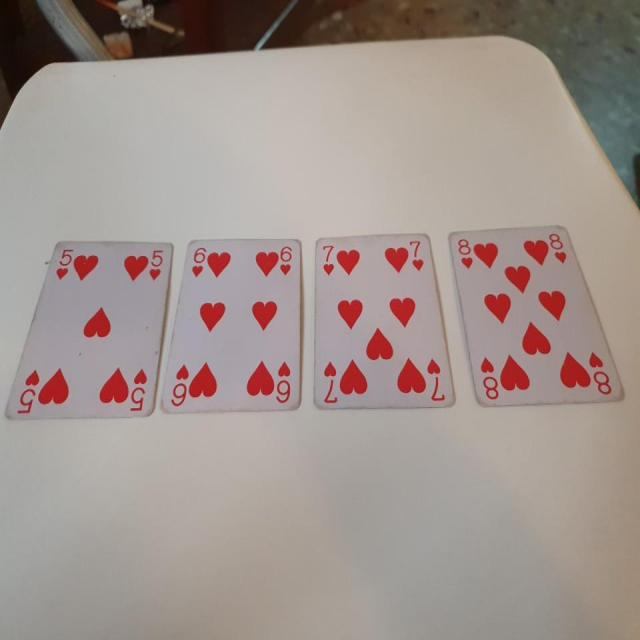5 Hearts: (5, 233, 182, 430)
6 Hearts: (160, 226, 307, 421)
7 Hearts: (312, 228, 461, 412)
8 Hearts: (446, 217, 628, 411)
